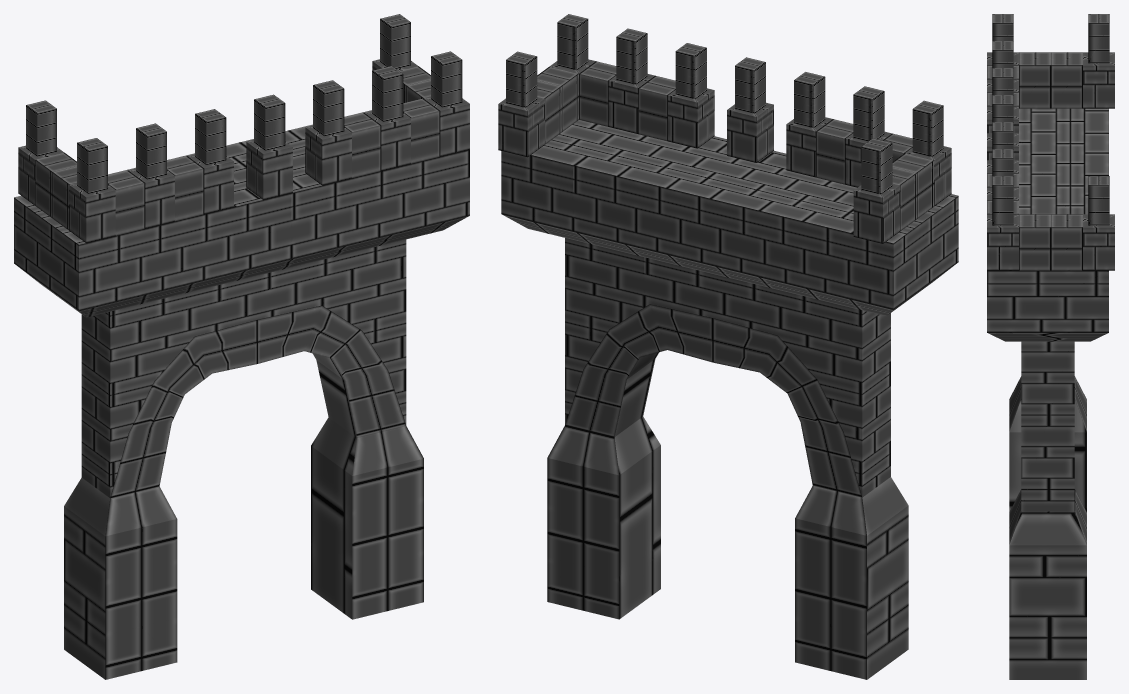
Rendered from Castle_Entrance.fbx.
3 views of the same model, side by side, from view 1: azimuth 30°, elevation 25°; view 2: azimuth 150°, elevation 25°; view 3: azimuth 270°, elevation 25° (orthographic). The views are drawn at different scales.
Visible parts, largest first — view 1: pCube133; view 2: pCube133; view 3: pCube133.
Part boxes in pixels (bbox=[...]): pCube133: bbox=[14, 14, 469, 679]; pCube133: bbox=[498, 14, 958, 679]; pCube133: bbox=[987, 14, 1114, 679].
Bounding box in the file's own units: 792 × 1049 × 239.
